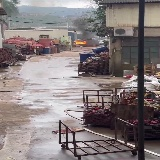fire: (76, 41, 87, 44)
